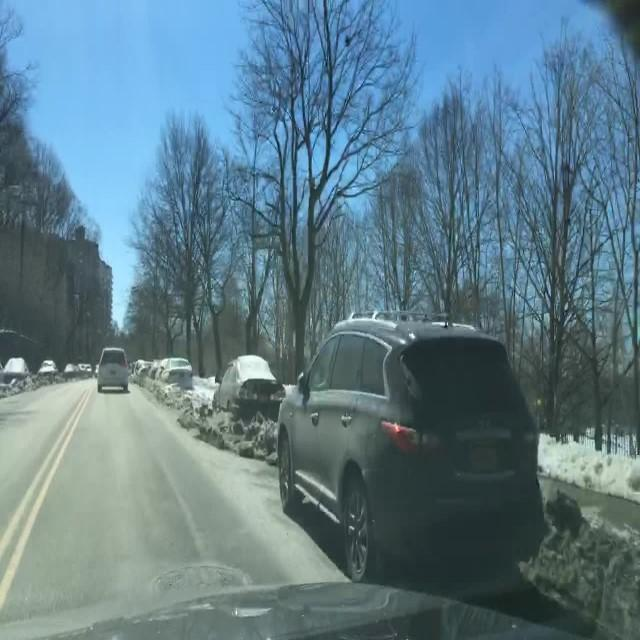single accident: (137, 327, 546, 592)
